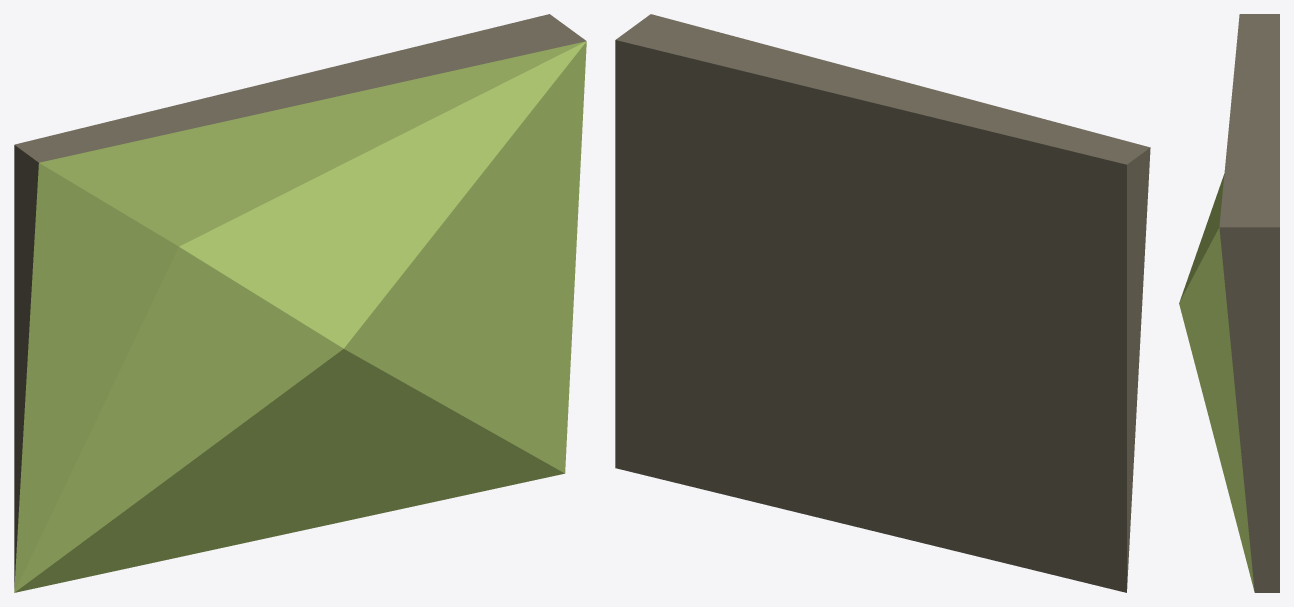
The model's file is building.site_model.points.obj.
The picture shows the model from 3 angles, left to right: view 1: azimuth 30°, elevation 25°; view 2: azimuth 150°, elevation 25°; view 3: azimuth 270°, elevation 25°; orthographic projection. The views are drawn at different scales.
Parts seen in each view (by area): view 1: Design Layer-1; view 2: Design Layer-1; view 3: Design Layer-1.
Boxes of the visible parts, box(x1,y1,x2,y2) form: Design Layer-1: box(14, 14, 586, 592); Design Layer-1: box(615, 14, 1150, 592); Design Layer-1: box(1179, 14, 1279, 592).
Bounding box in the file's own units: 10000 × 8000 × 2000.
